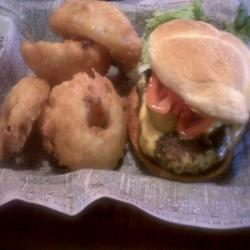burger: (117, 10, 250, 186)
